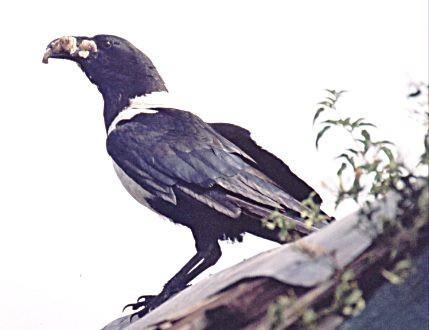bird: (42, 33, 331, 310)
